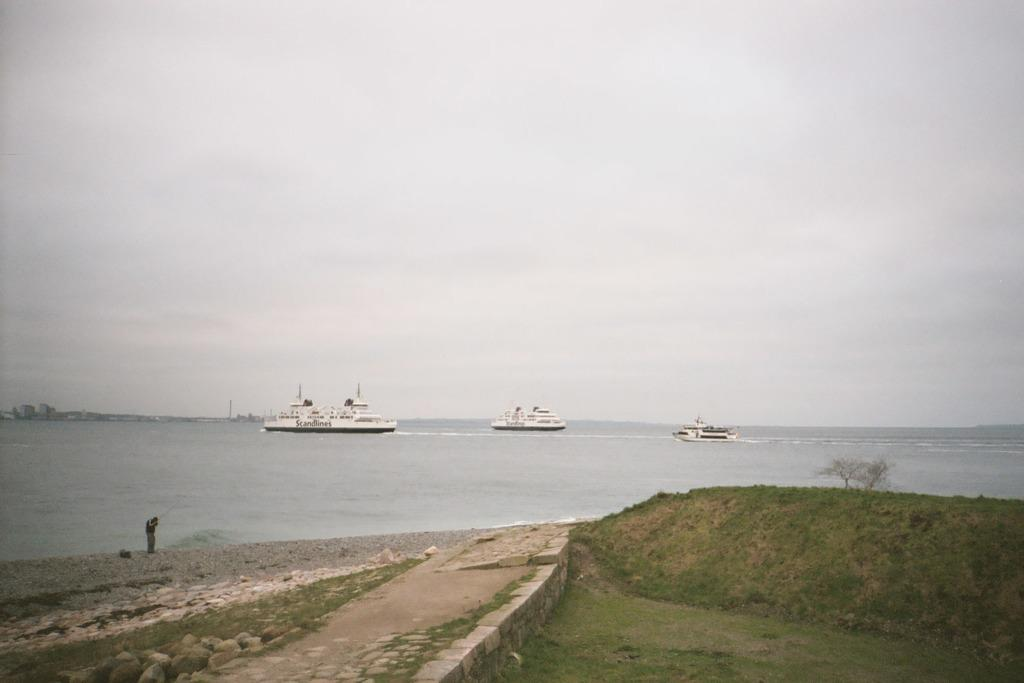PassengerShip: (265, 385, 397, 433), (485, 405, 569, 431), (670, 416, 738, 442)
